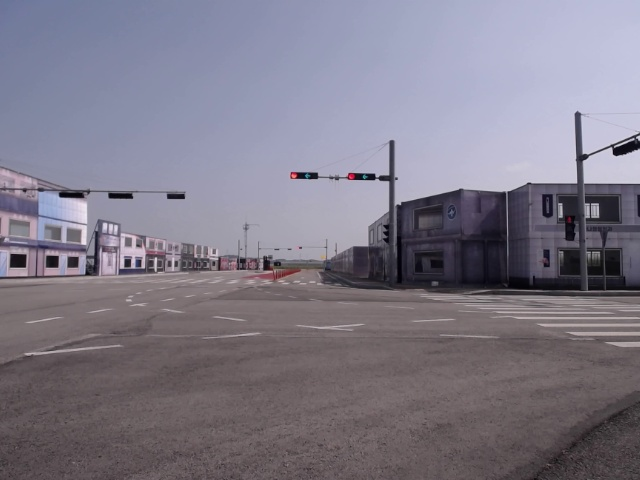left_green_4: (291, 172, 317, 179), (348, 174, 374, 180)
